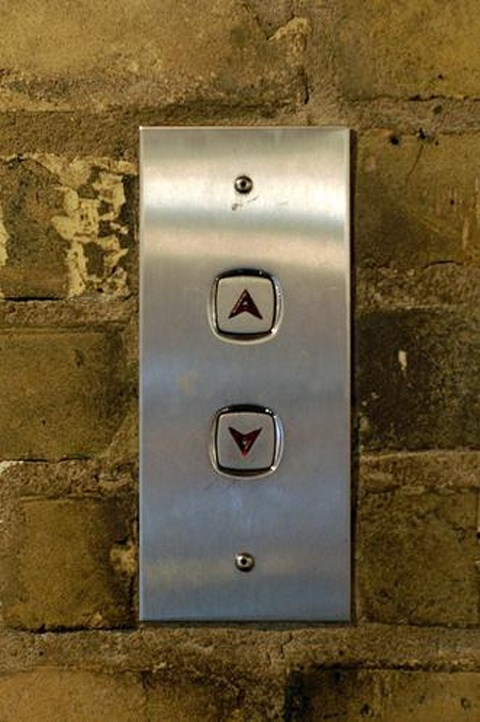down: (207, 401, 286, 482)
up: (204, 264, 285, 345)
